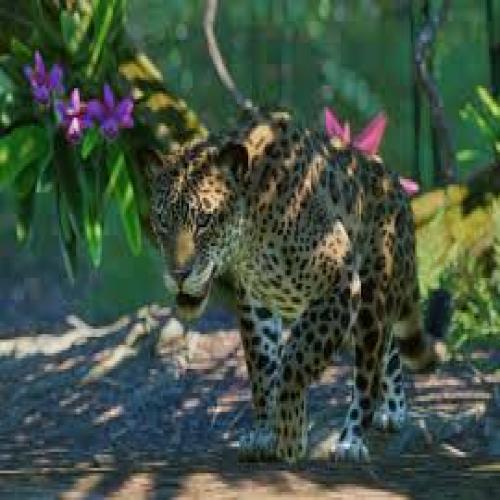jaguar_not-endangered: (144, 114, 432, 448)
